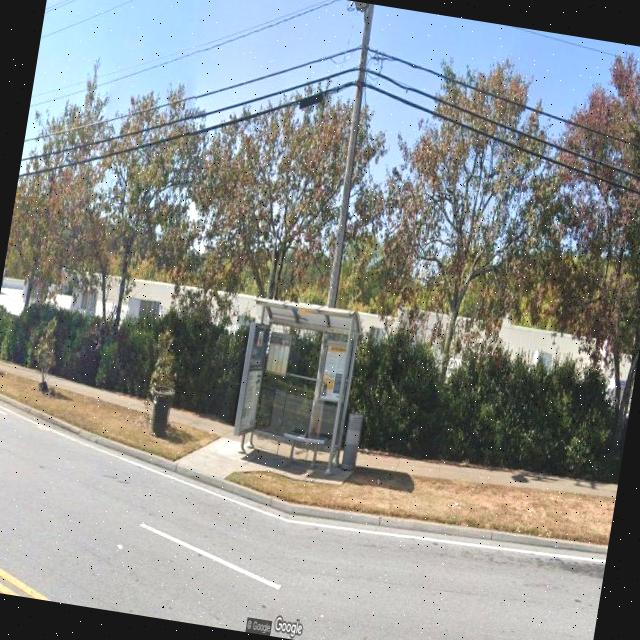seating: (280, 430, 326, 468)
shelter: (224, 293, 365, 477)
trash_can: (146, 386, 176, 440), (340, 410, 365, 472)
